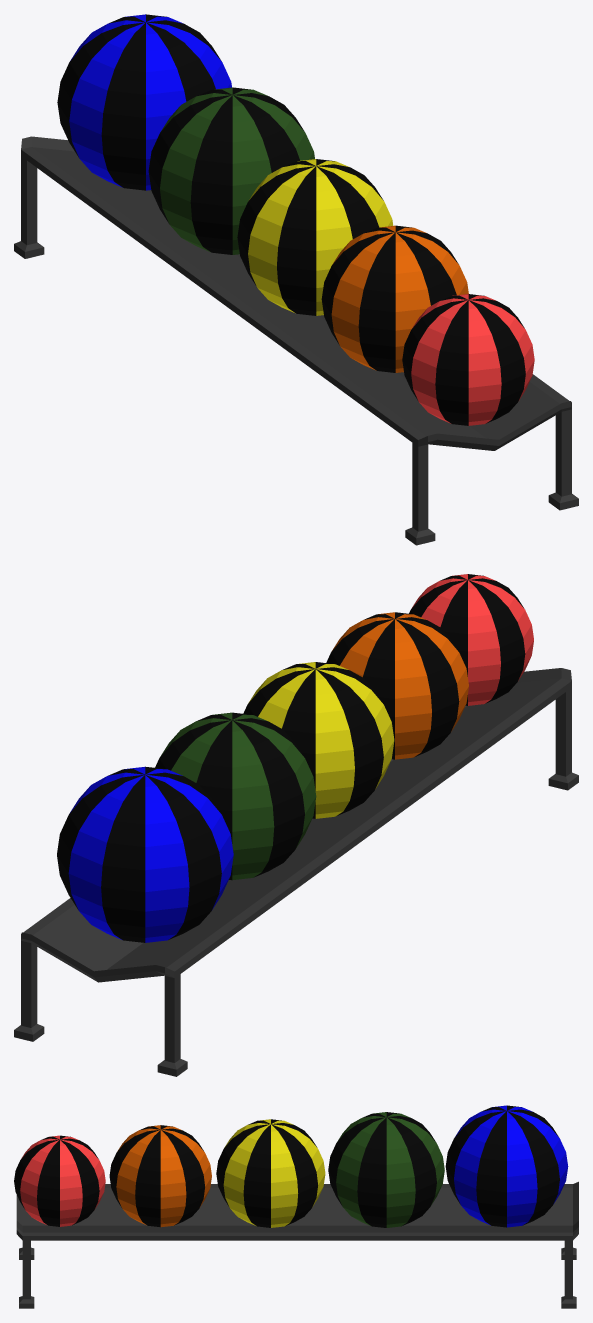
Rendered from MedicineBallRack.fbx.
3 views of the same model, one above another, from view 1: azimuth 30°, elevation 25°; view 2: azimuth 150°, elevation 25°; view 3: azimuth 270°, elevation 25° (orthographic). The views are drawn at different scales.
Parts seen in each view (by area): view 1: MedicineBallRack; view 2: MedicineBallRack; view 3: MedicineBallRack.
Part boxes in pixels (x1,y1,x2,y2): MedicineBallRack: [14, 14, 578, 545]; MedicineBallRack: [14, 574, 578, 1076]; MedicineBallRack: [14, 1105, 578, 1308].
Bounding box in the file's own units: 39.58 × 57.09 × 172.
